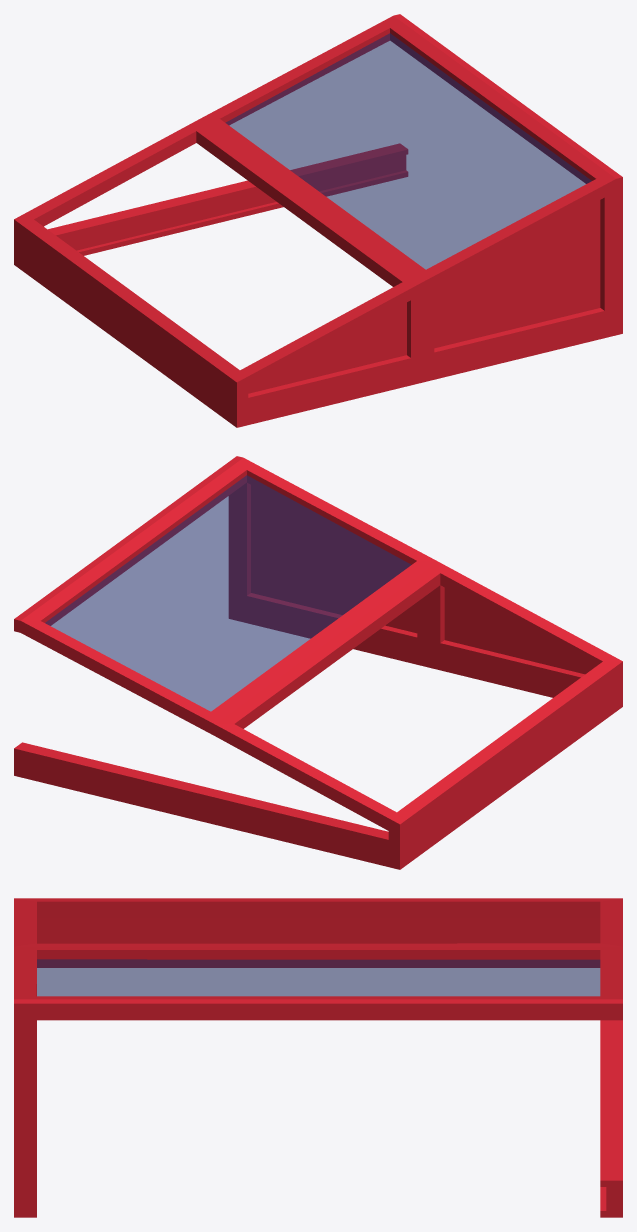
The model's file is Claraboia.L.fbx.
The picture shows the model from 3 angles, top to bottom: view 1: azimuth 30°, elevation 25°; view 2: azimuth 150°, elevation 25°; view 3: azimuth 270°, elevation 25°; orthographic projection. The views are drawn at different scales.
Visible parts, largest first — view 1: Claraboia.L; view 2: Claraboia.L; view 3: Claraboia.L.
Part boxes in pixels (x1,y1,x2,y2): Claraboia.L: (14,14,622,427); Claraboia.L: (14,456,622,869); Claraboia.L: (14,898,622,1217).
Bounding box in the file's own units: 400 × 155 × 400.
